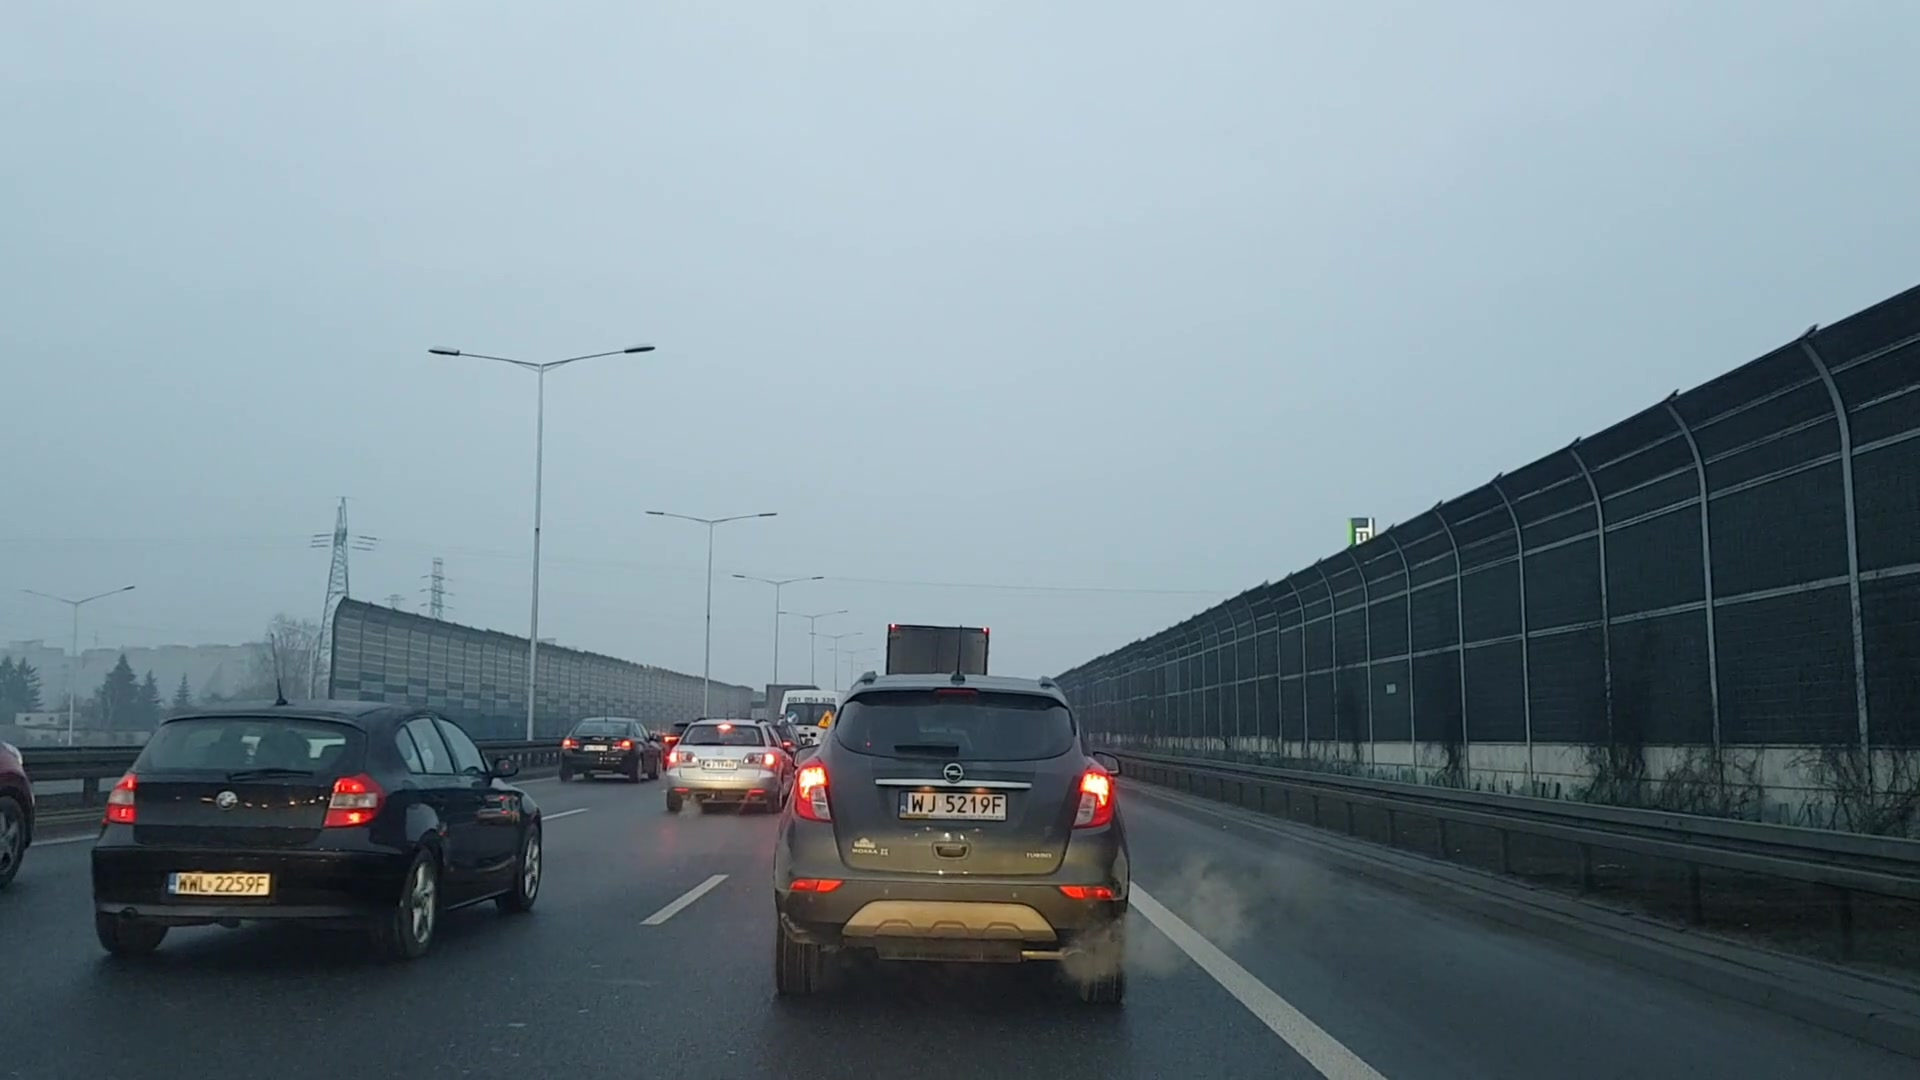car: (771, 669, 1135, 1015), (91, 703, 545, 955), (666, 713, 793, 814), (555, 713, 657, 782)
